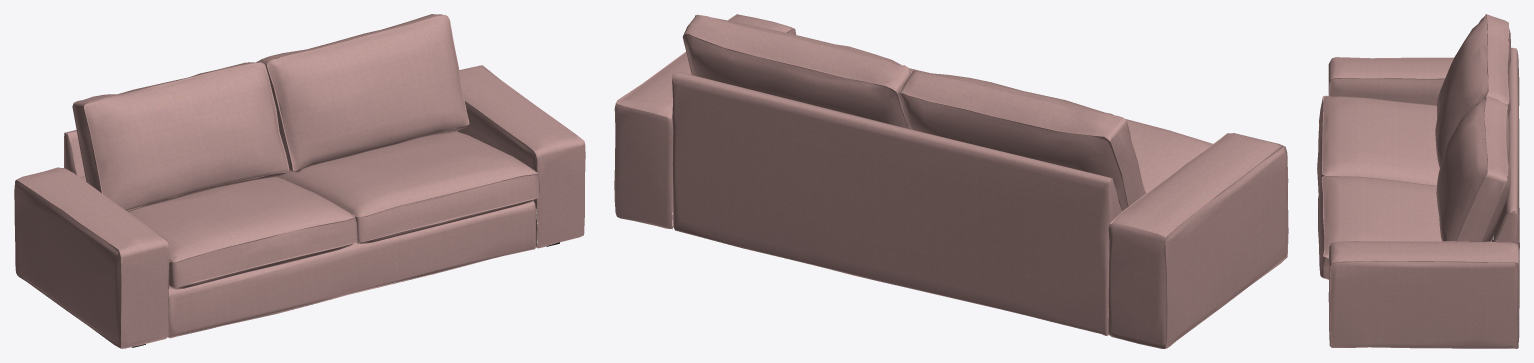
Rendered from 22 - KIVIK 3-seat sofa - Gunnared light brown-pink.glb.
The picture shows the model from 3 angles, left to right: view 1: azimuth 30°, elevation 25°; view 2: azimuth 150°, elevation 25°; view 3: azimuth 270°, elevation 25°; orthographic projection. The views are drawn at different scales.
Parts seen in each view (by area): view 1: Mesh_0; view 2: Mesh_0; view 3: Mesh_0.
Part boxes in pixels (x1,y1,x2,y2): Mesh_0: (14, 14, 585, 348); Mesh_0: (614, 14, 1288, 348); Mesh_0: (1317, 14, 1519, 348).
Size of the model in its own units: 2.28 by 0.8288 by 0.9491.
1 material, 1 textured.
